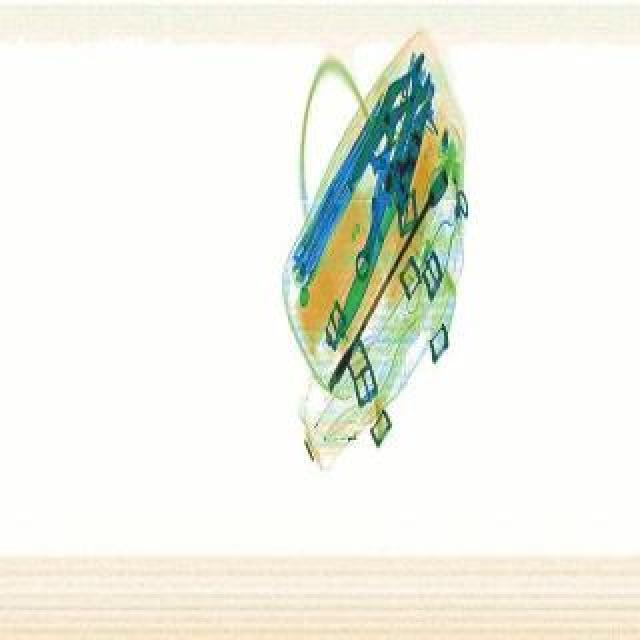gun: (378, 78, 446, 206)
knife: (330, 98, 438, 334)
scissors: (342, 50, 446, 284)
